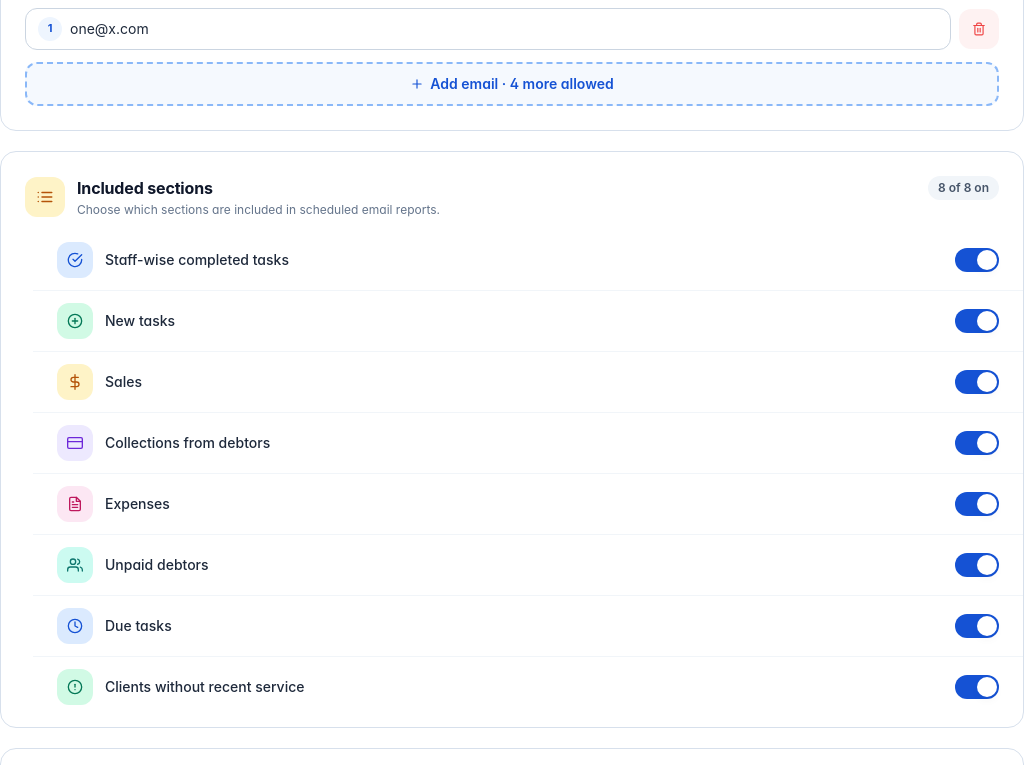
Test: Executive Summary – configuration panel › shows one switch per report section and turns a section off
(page scrolled)
Expected: the text "8 of 8 on" is shown, [928,176,999,200]
Click the switch named "Include Sales" at (977, 382), box [955,370,999,394]
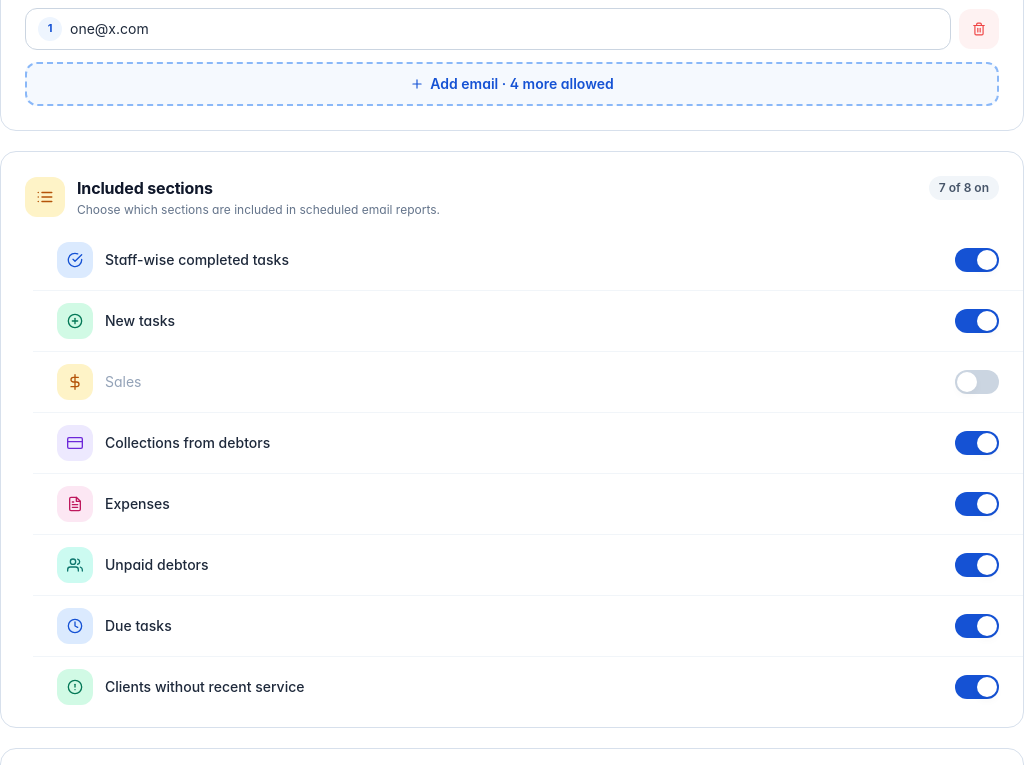
Result: the text "7 of 8 on" is shown at [929,176,999,200]
